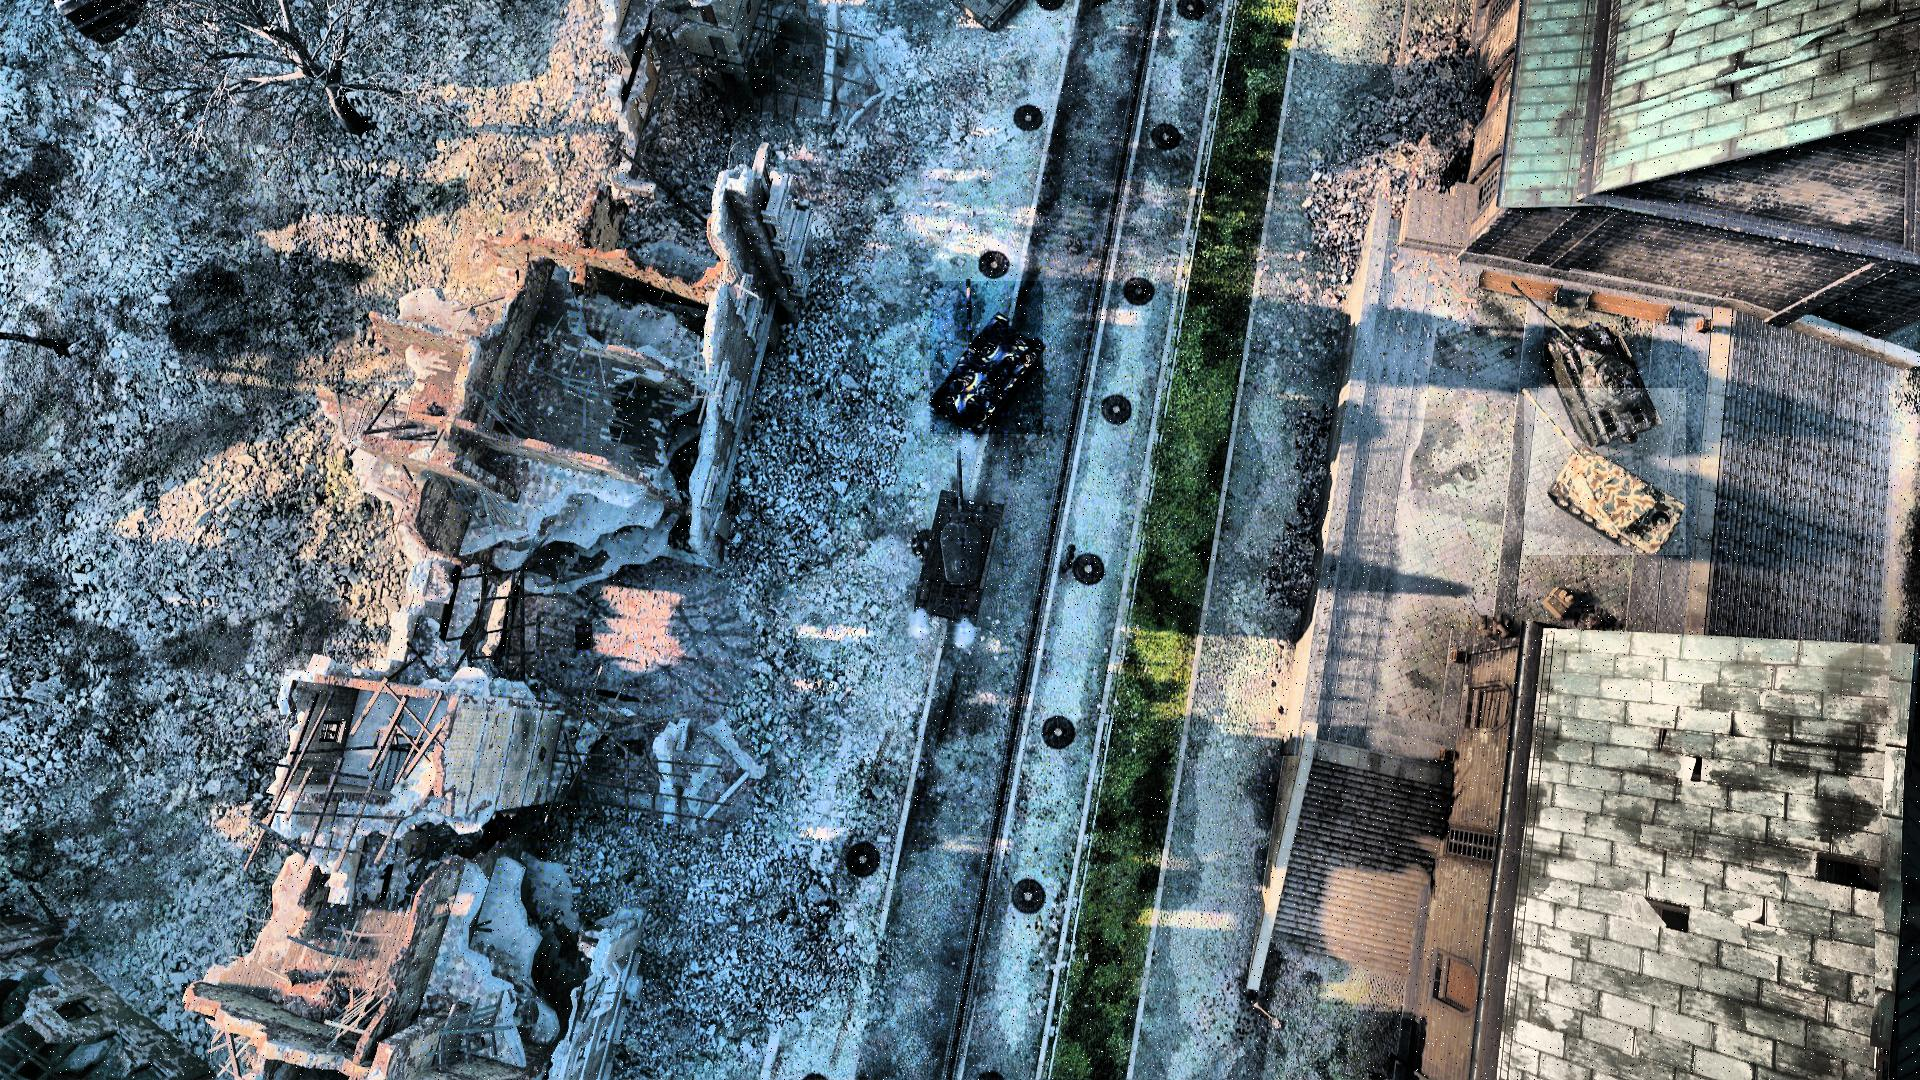military-vehicle: (1524, 388, 1687, 555), (1511, 280, 1660, 443), (930, 282, 1043, 435), (916, 447, 1002, 626)
